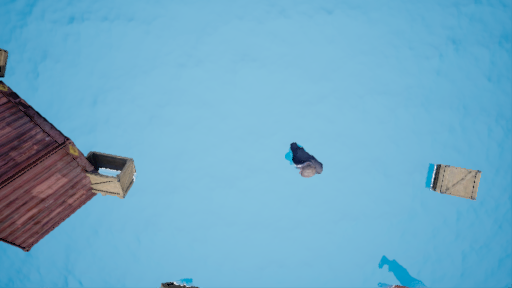person: (268, 142, 330, 189)
